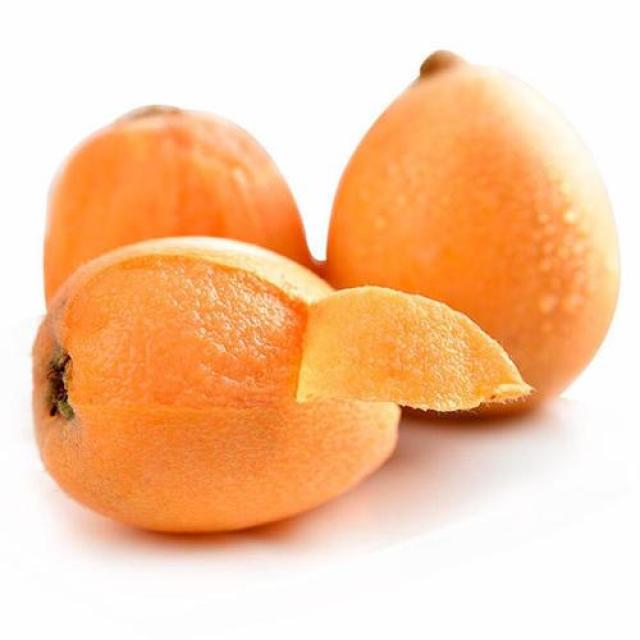Wet: (28, 50, 622, 535)
